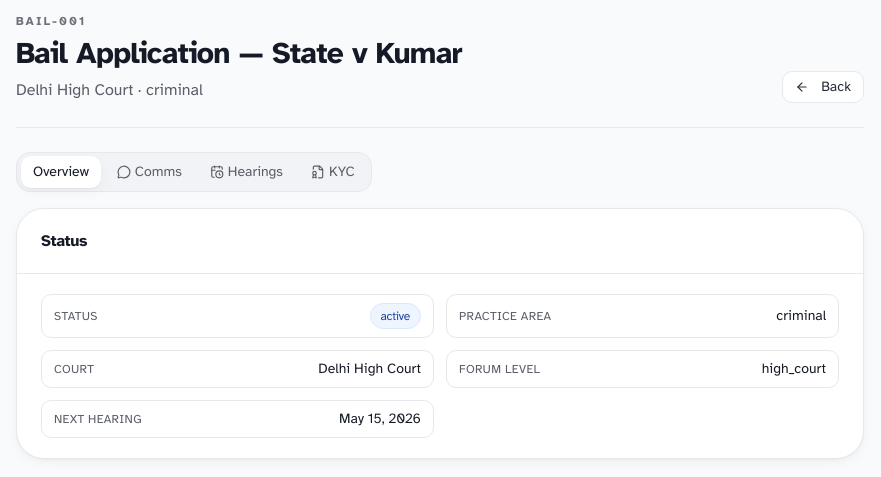
Test case: PortalMatterDetailPage › shows the hearings list when one is scheduled
Click the tab "Hearings" at [246, 172], box left=198, top=156, right=295, bottom=188
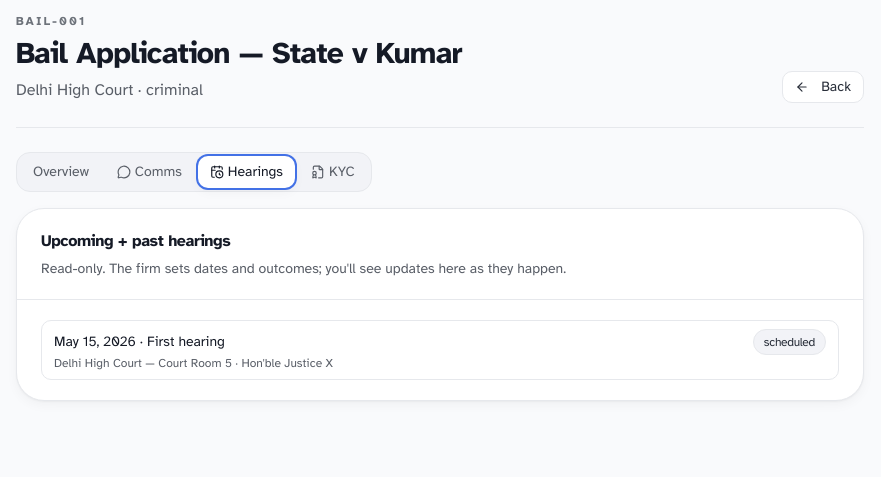
Expected: the list item with test id "portal-hearing-h-1" is shown, left=41, top=320, right=839, bottom=380
Expected: the list item with test id "portal-hearing-h-1" shows "15", left=54, top=333, right=136, bottom=350
Expected: the text "Delhi High Court — Court Room 5 · Hon'ble Justice X" is shown, left=54, top=356, right=333, bottom=370
